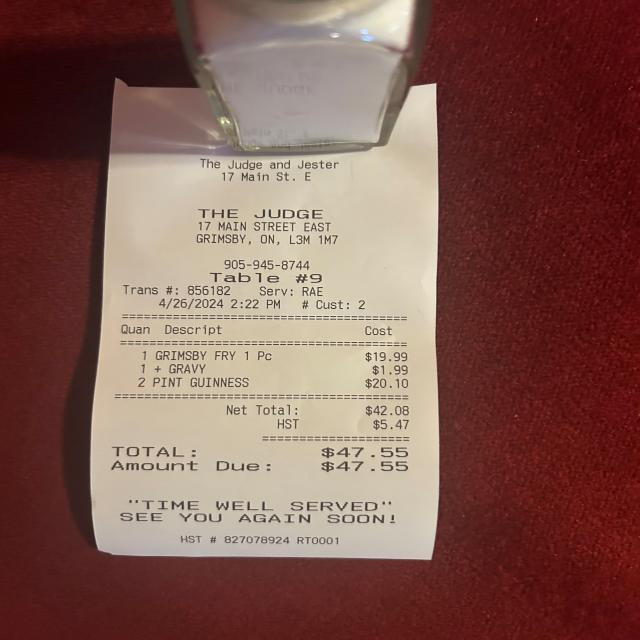item: (152, 347, 413, 366), (152, 360, 412, 378), (150, 375, 412, 391)
store_name: (192, 202, 334, 224)
total_amount: (104, 440, 417, 462)
transaction_date: (153, 294, 230, 314)
